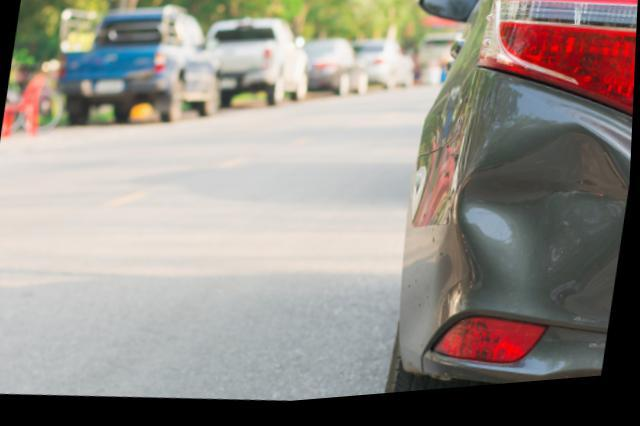dent: (465, 143, 630, 291)
